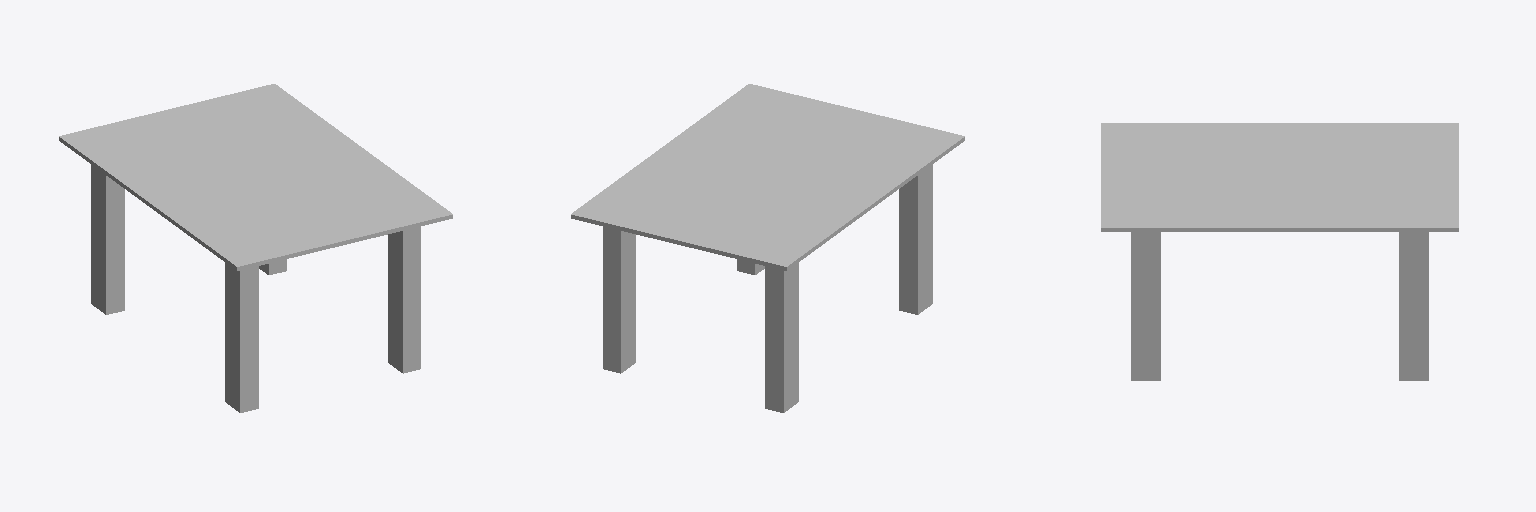
The model's file is basicTable.obj.
The picture shows the model from 3 angles: view 1: azimuth 30°, elevation 25°; view 2: azimuth 150°, elevation 25°; view 3: azimuth 270°, elevation 25°; orthographic projection.
Parts seen in each view (by area): view 1: Cube; view 2: Cube; view 3: Cube.
Part boxes in pixels (left/top/right/bottom): Cube: left=59, top=84, right=452, bottom=412; Cube: left=571, top=84, right=964, bottom=412; Cube: left=1101, top=123, right=1458, bottom=380.
Bounding box in the file's own units: 25.85 × 18.44 × 37.02.